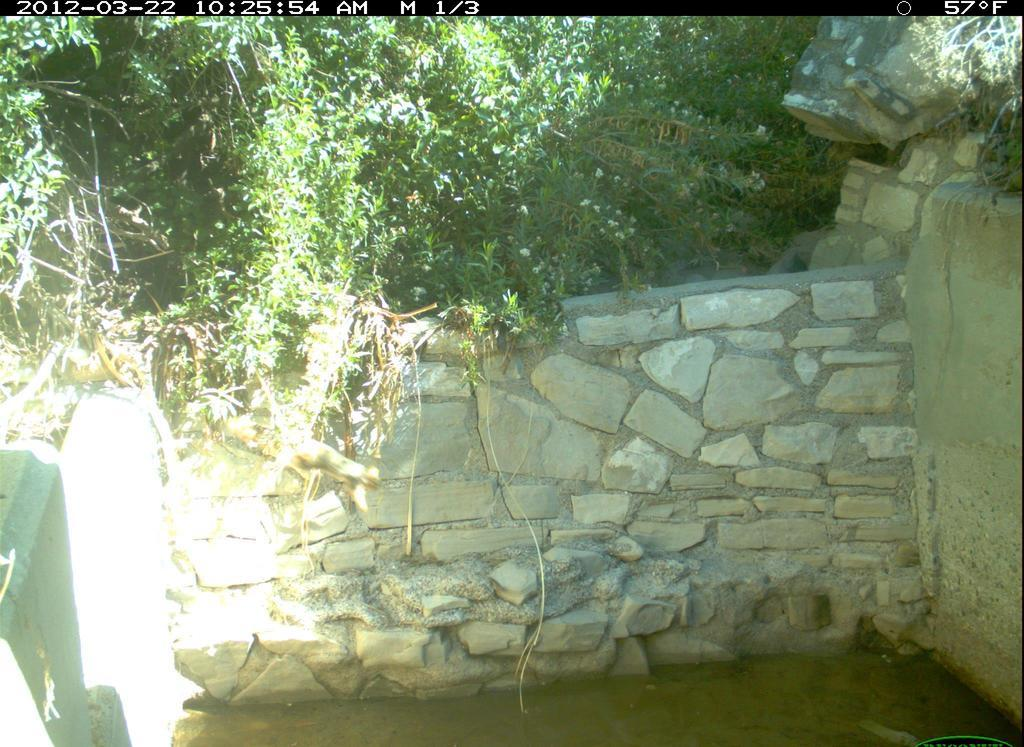squirrel: (223, 396, 387, 538)
